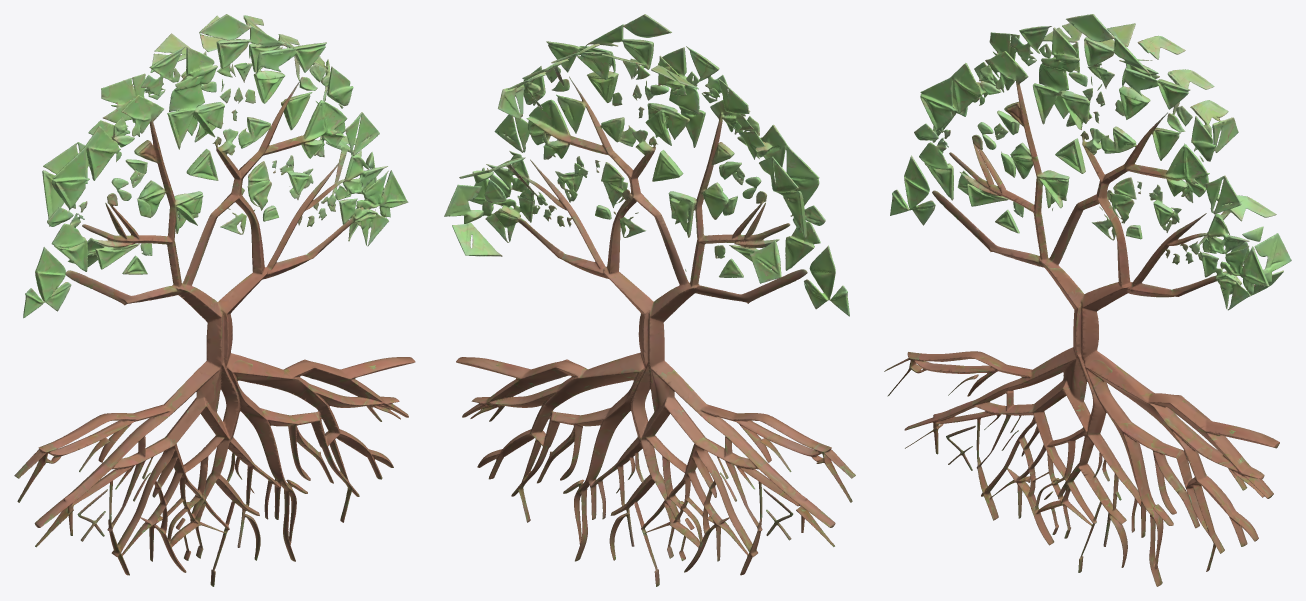
File: root-memory.glb
3 views of the same model, side by side, from view 1: azimuth 30°, elevation 25°; view 2: azimuth 150°, elevation 25°; view 3: azimuth 330°, elevation 25° (orthographic).
Bounding box in the file's own units: 1.38 × 1.9 × 0.2179.
1 material, 1 textured.
